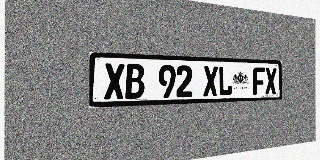2: (176, 65, 192, 97)
9: (159, 65, 176, 98)
B: (125, 64, 144, 99)
F: (253, 67, 265, 95)
L: (218, 66, 232, 96)
X: (104, 63, 124, 100), (203, 66, 218, 96), (265, 67, 276, 94)
